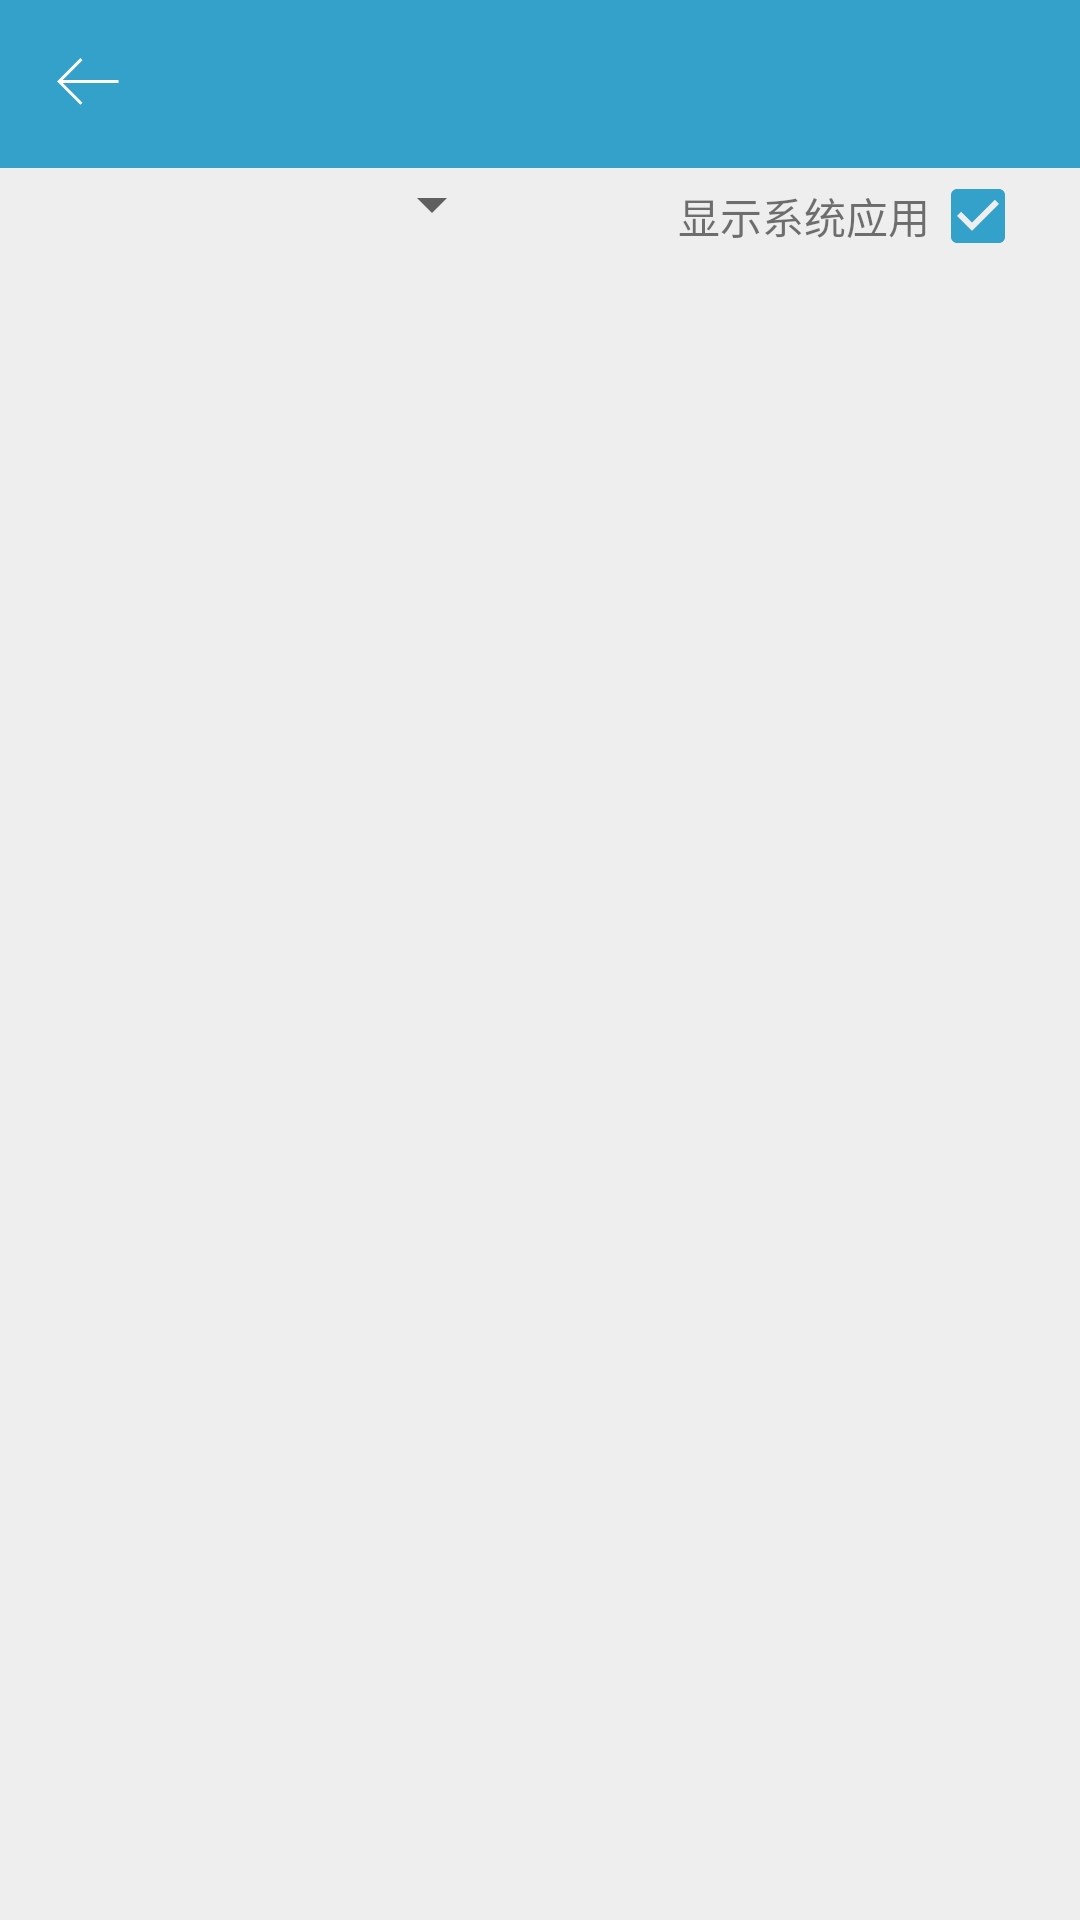

Named icons in this screenshot (1080*1920) and their bounding boxes, Rect(x1, y1, x2, y2):
back: Rect(57, 58, 119, 105)
